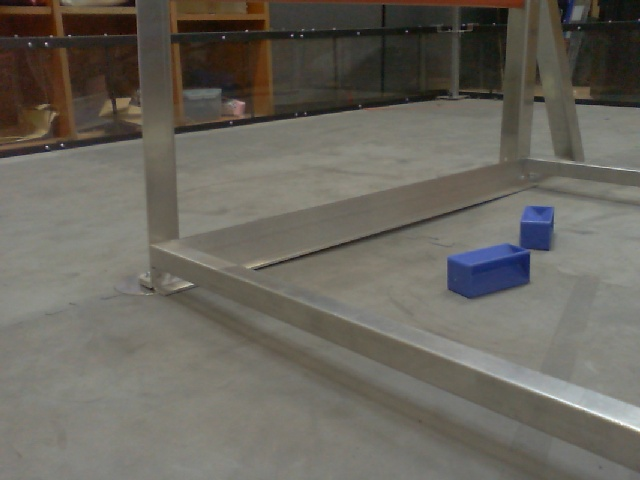BlueSample: (444, 242, 533, 297), (516, 203, 558, 252)
